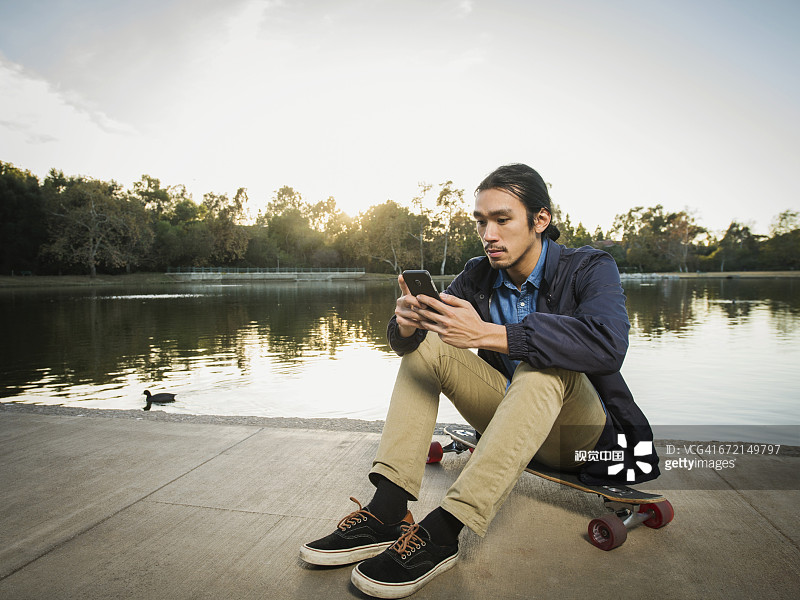reading: (365, 251, 516, 359)
